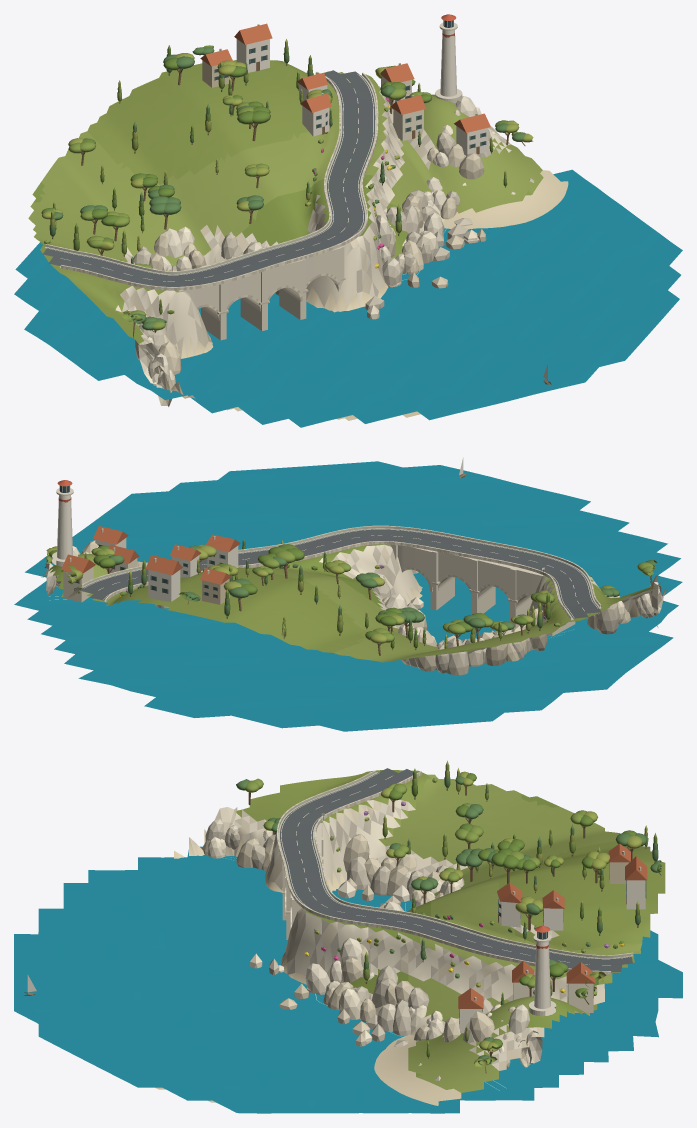
File: coast.glb
3 renders of one model, top to bottom at view 1: azimuth 30°, elevation 25°; view 2: azimuth 150°, elevation 25°; view 3: azimuth 270°, elevation 25°, orthographic. The views are drawn at different scales.
Parts seen in each view (by area): view 1: Sea_surface, Sculpted_coastal_terrain_1, Sculpted_coastal_terrain, DRIVEABLE_ROAD_8m, Sculpted_coastal_terrain_6, Sculpted_coastal_terrain_3, Sculpted_coastal_terrain_5, Bridge_open_arch_1, Sculpted_coastal_terrain_4, Sculpted_coastal_terrain_7, Sculpted_coastal_terrain_2, Village_plaster_house (+14 smaller); view 2: Sea_surface, Sculpted_coastal_terrain, DRIVEABLE_ROAD_8m, Sculpted_coastal_terrain_1, Bridge_open_arch_1, Sculpted_coastal_terrain_5, Sculpted_coastal_terrain_3, Village_plaster_house_1, Village_plaster_house, Pine_trunk_1, Pine_trunk_4, Pine_trunk_3 (+14 smaller); view 3: Sea_surface, Sculpted_coastal_terrain_1, Sculpted_coastal_terrain, Sculpted_coastal_terrain_6, Sculpted_coastal_terrain_3, DRIVEABLE_ROAD_8m, Sculpted_coastal_terrain_5, Sculpted_coastal_terrain_4, Sculpted_coastal_terrain_7, Pine_trunk_4, Pine_trunk_1, Village_plaster_house (+14 smaller).
Part boxes in pixels (left/top/right/bottom): Sea_surface: left=14, top=169, right=682, bottom=427; Sculpted_coastal_terrain_1: left=28, top=71, right=543, bottom=292; Sculpted_coastal_terrain: left=40, top=60, right=531, bottom=348; DRIVEABLE_ROAD_8m: left=43, top=70, right=375, bottom=286; Sculpted_coastal_terrain_6: left=115, top=86, right=511, bottom=393; Sculpted_coastal_terrain_3: left=120, top=97, right=510, bottom=406; Sculpted_coastal_terrain_5: left=122, top=87, right=534, bottom=360; Bridge_open_arch_1: left=178, top=246, right=344, bottom=340; Sculpted_coastal_terrain_4: left=124, top=85, right=515, bottom=388; Sculpted_coastal_terrain_7: left=160, top=170, right=568, bottom=420; Sculpted_coastal_terrain_2: left=32, top=94, right=456, bottom=258; Village_plaster_house: left=236, top=30, right=488, bottom=155; Sea_surface: left=14, top=461, right=682, bottom=731; Sculpted_coastal_terrain: left=115, top=569, right=655, bottom=652; DRIVEABLE_ROAD_8m: left=80, top=529, right=601, bottom=618; Sculpted_coastal_terrain_1: left=41, top=554, right=567, bottom=662; Bridge_open_arch_1: left=390, top=544, right=575, bottom=636; Sculpted_coastal_terrain_5: left=55, top=546, right=651, bottom=675; Sculpted_coastal_terrain_3: left=43, top=540, right=661, bottom=671; Village_plaster_house_1: left=61, top=526, right=240, bottom=584; Village_plaster_house: left=57, top=495, right=238, bottom=601; Pine_trunk_1: left=46, top=538, right=657, bottom=633; Pine_trunk_4: left=49, top=544, right=551, bottom=648; Pine_trunk_3: left=46, top=540, right=654, bottom=644; Sea_surface: left=14, top=846, right=682, bottom=1113; Sculpted_coastal_terrain_1: left=320, top=774, right=641, bottom=1092; Sculpted_coastal_terrain: left=236, top=770, right=665, bottom=1076; Sculpted_coastal_terrain_6: left=189, top=802, right=604, bottom=1068; Sculpted_coastal_terrain_3: left=202, top=798, right=568, bottom=1070; DRIVEABLE_ROAD_8m: left=280, top=768, right=632, bottom=972; Sculpted_coastal_terrain_5: left=230, top=800, right=597, bottom=1080; Sculpted_coastal_terrain_4: left=205, top=799, right=566, bottom=1070; Sculpted_coastal_terrain_7: left=38, top=830, right=461, bottom=1105; Pine_trunk_4: left=374, top=768, right=660, bottom=1057; Pine_trunk_1: left=236, top=776, right=661, bottom=1065; Village_plaster_house: left=460, top=880, right=645, bottom=1033.
Size of the model in its own units: 243 by 69.03 by 243.
